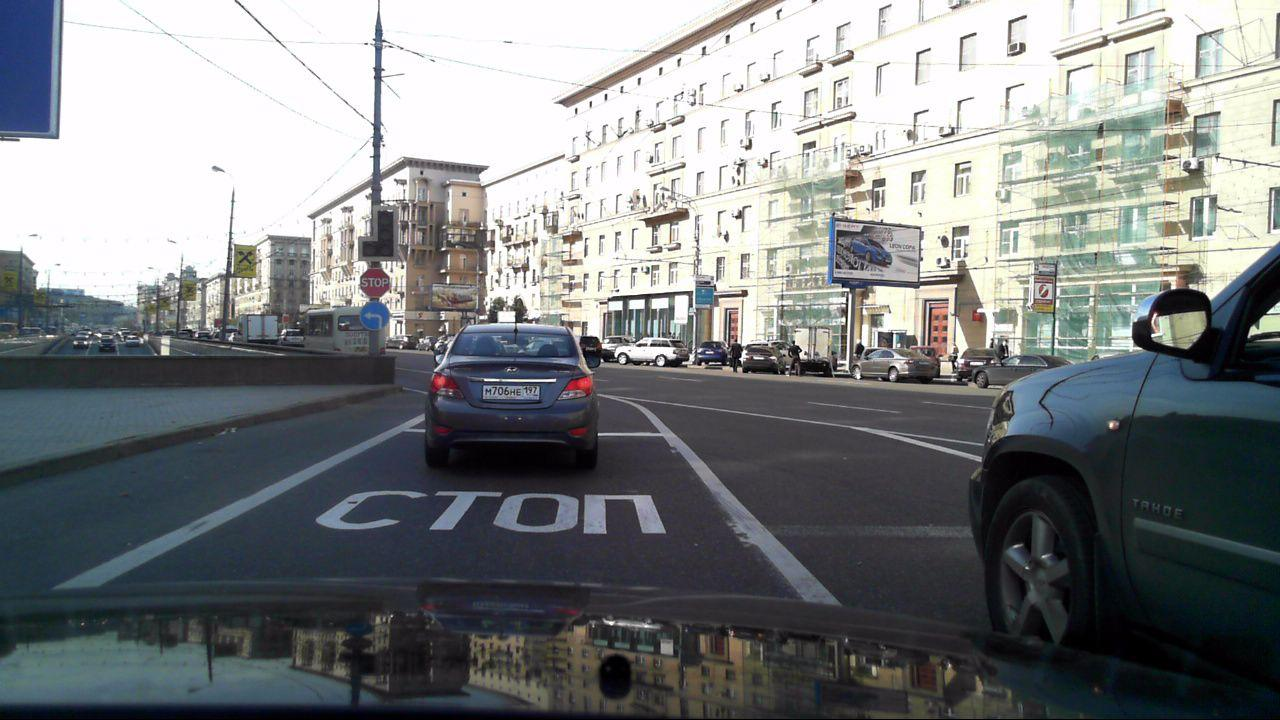2_5: (359, 263, 392, 298)
4_1_3: (359, 301, 391, 331)
